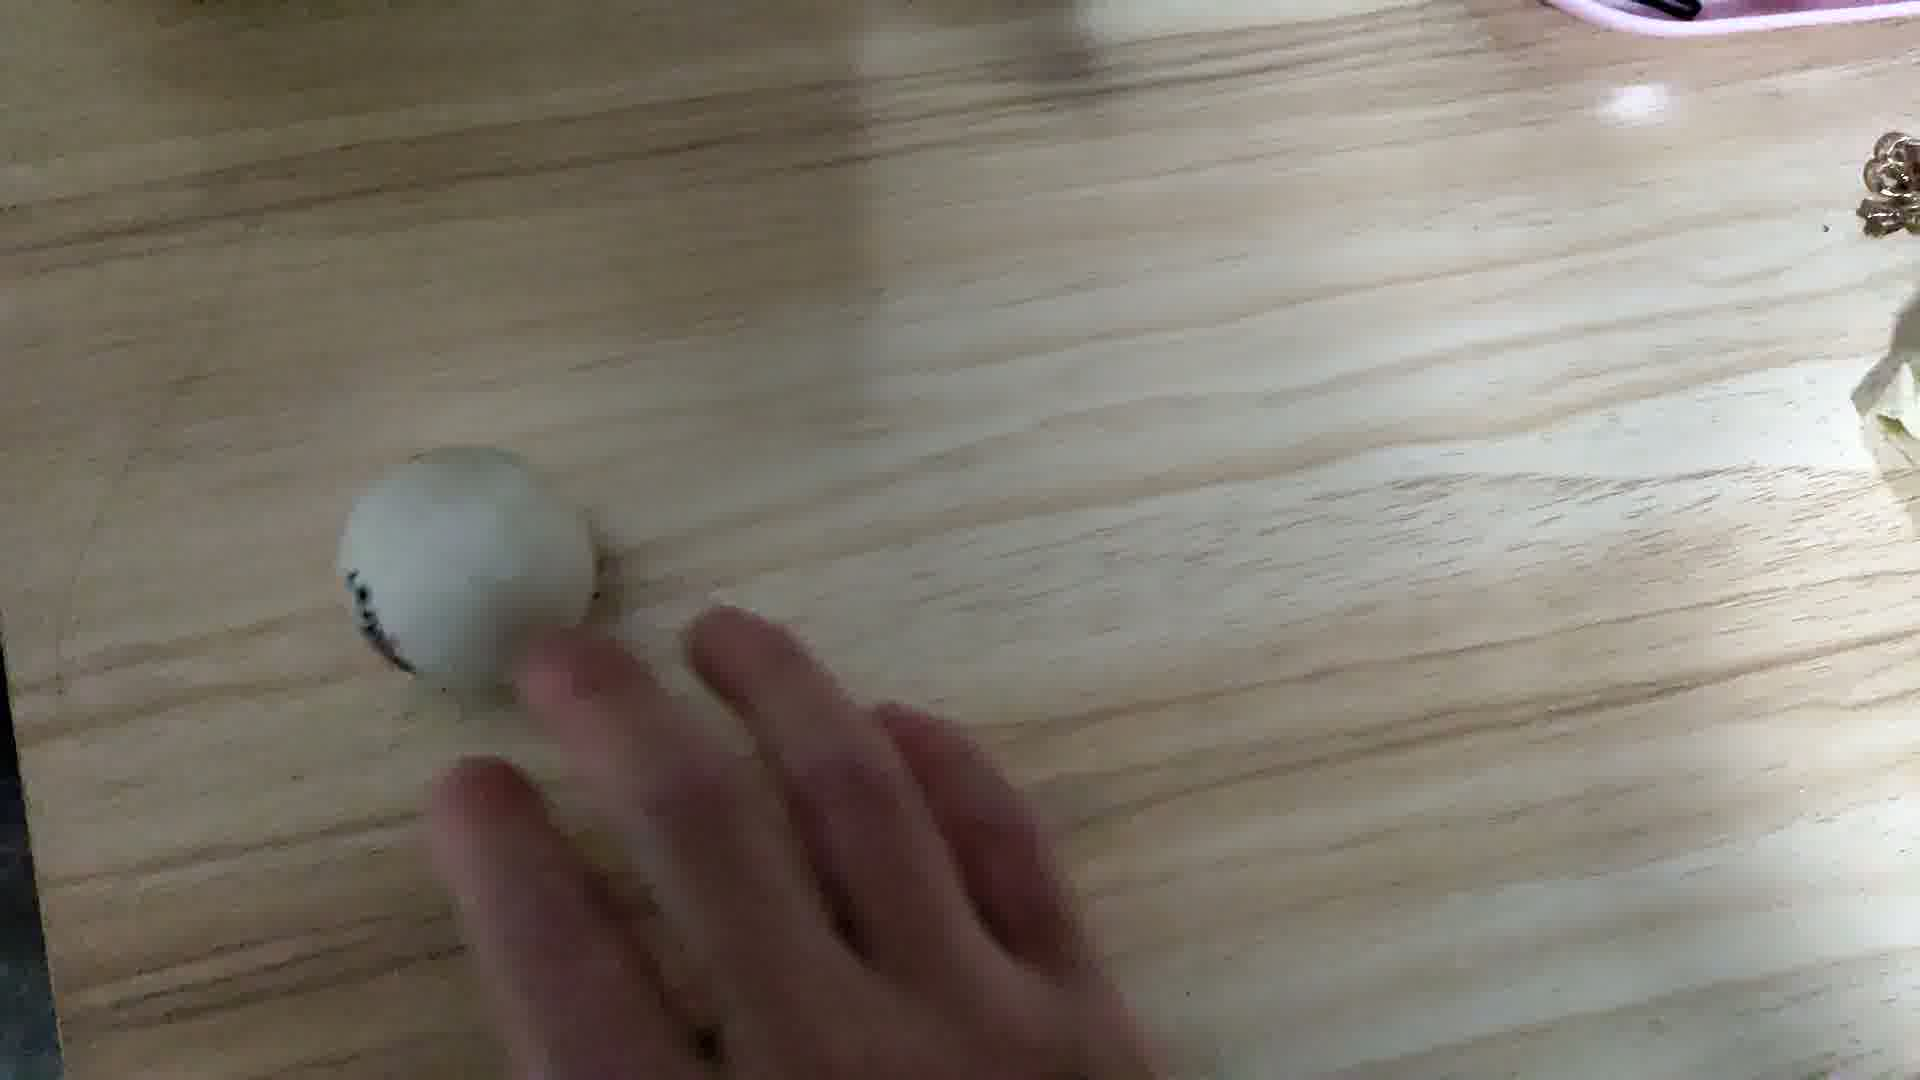Ball: (342, 450, 601, 695)
